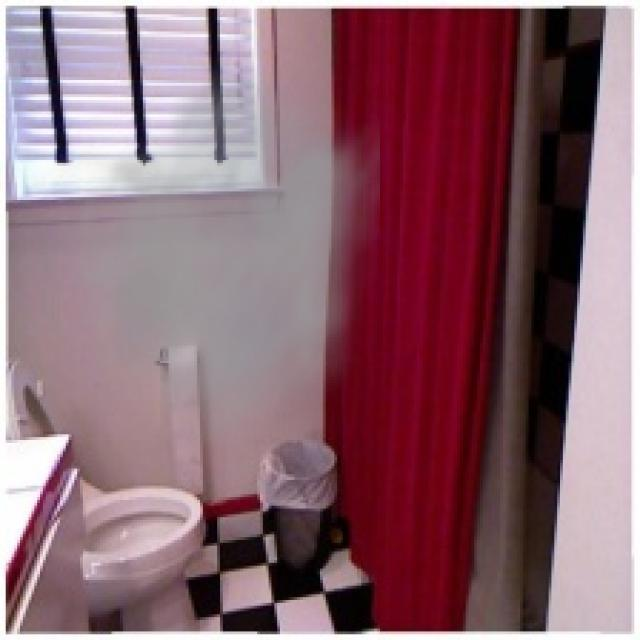Smoke: (34, 43, 380, 463)
